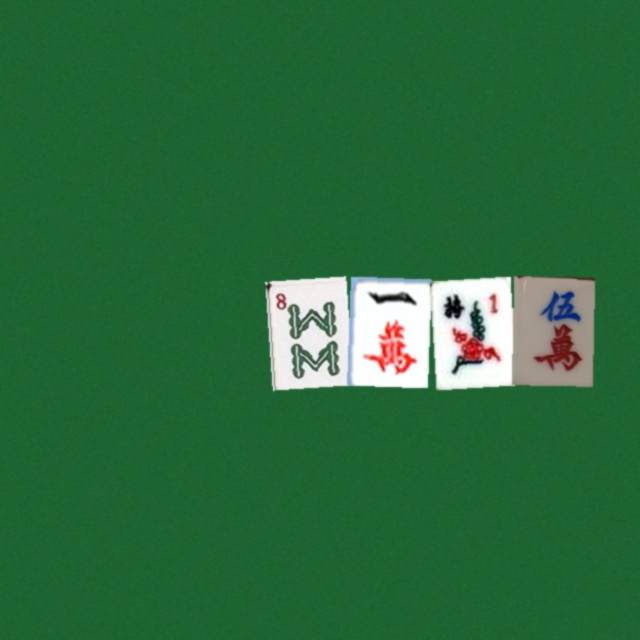tile: (265, 276, 346, 385), (347, 276, 428, 385), (429, 276, 510, 385), (511, 276, 592, 385)
